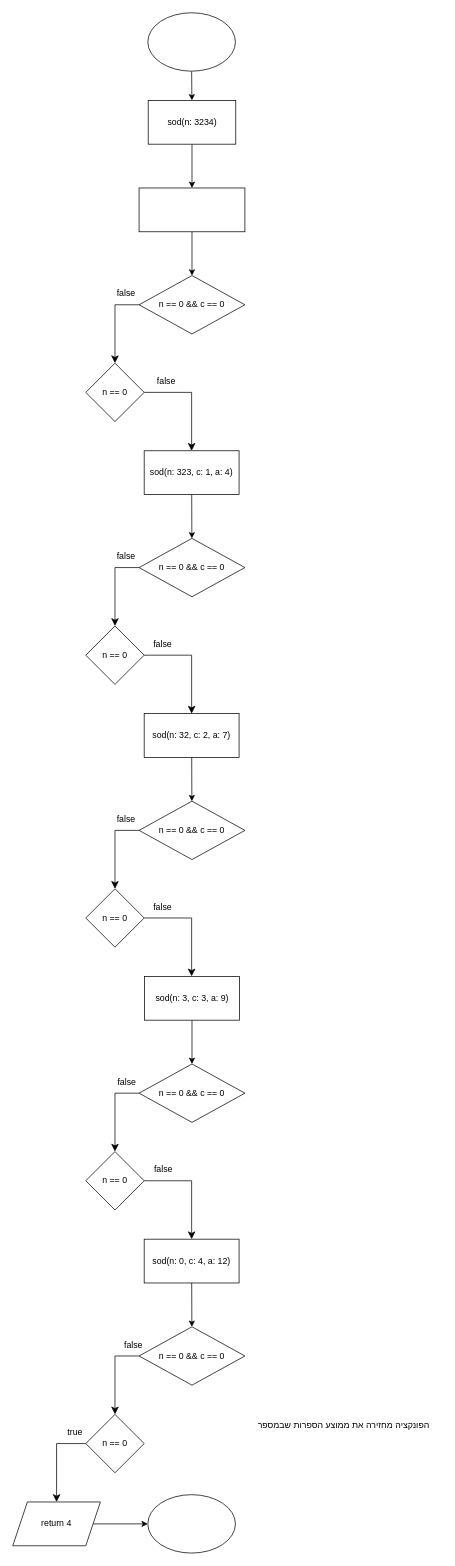
Image size: 455x1566. Some labels were removed from this diagram. The centre of each missing label's shape, as x and y in pixels:
End: the point at 191,1523
sod(n: 3234, c: 0, a: 0): the point at 191,209
Start: the point at 191,41
